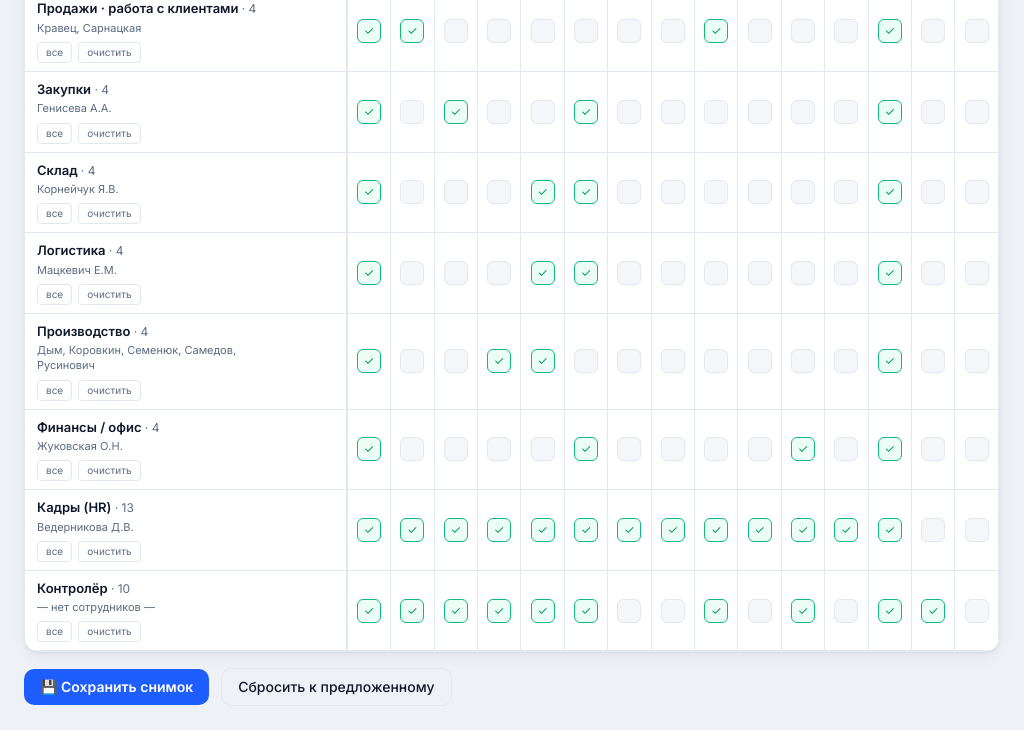
Test case: AccessAdmin › «Сохранить снимок» показывает JSON матрицы с ролями и модулями
(page scrolled)
Click the button "💾 Сохранить снимок". click: (117, 687)
box: [24, 669, 209, 705]
(page scrolled)
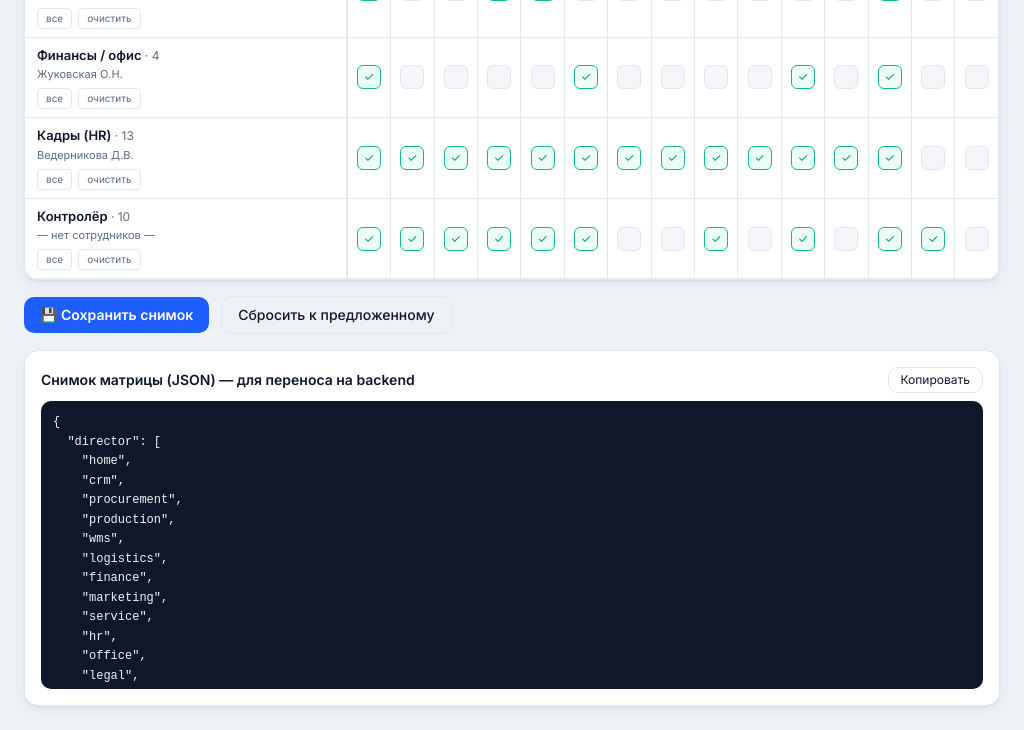
Now the heading "Снимок матрицы (JSON) — для переноса на backend" is shown, box [41, 370, 415, 390]
